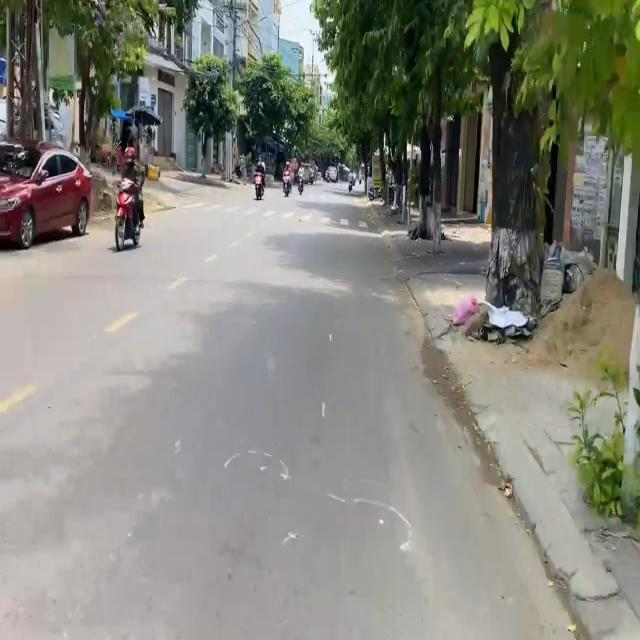walk-crossing: (186, 196, 375, 238)
